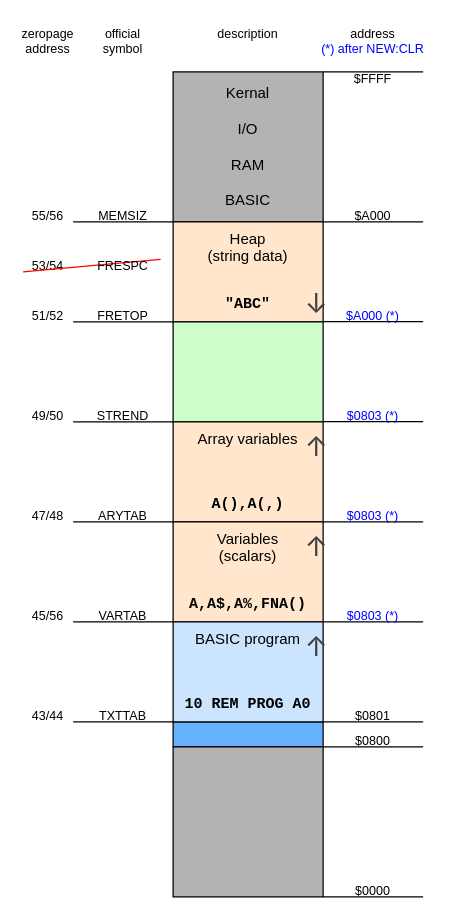
Some shapes in this 456 by 920 pixel diagram are drawn without their labels. Each missing label, with the centre of its shape:
"Free" belongs at (x=247, y=371).
"Leading zero" belongs at (x=247, y=734).
"Screen buffer OS data Stack Zero page" belongs at (x=247, y=821).
